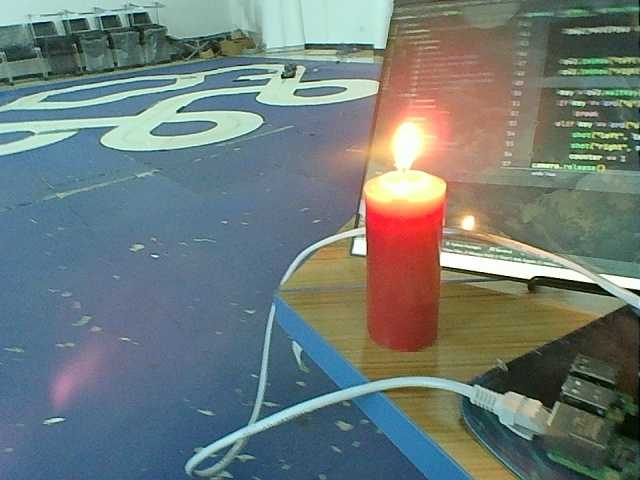candle: (361, 170, 445, 355)
fire: (379, 117, 432, 172), (456, 210, 477, 236)
